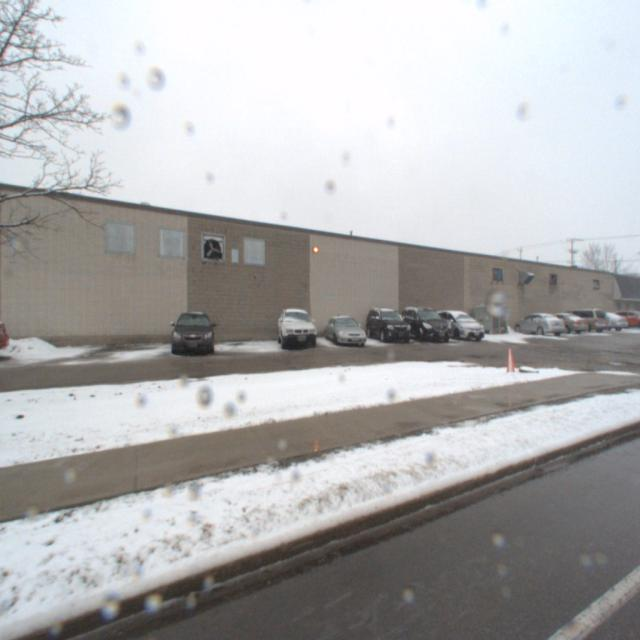Car: (392, 305, 456, 346), (167, 306, 215, 356), (361, 304, 414, 346), (276, 302, 318, 351), (426, 310, 486, 344), (320, 310, 370, 350), (508, 315, 566, 342), (530, 316, 588, 340)
